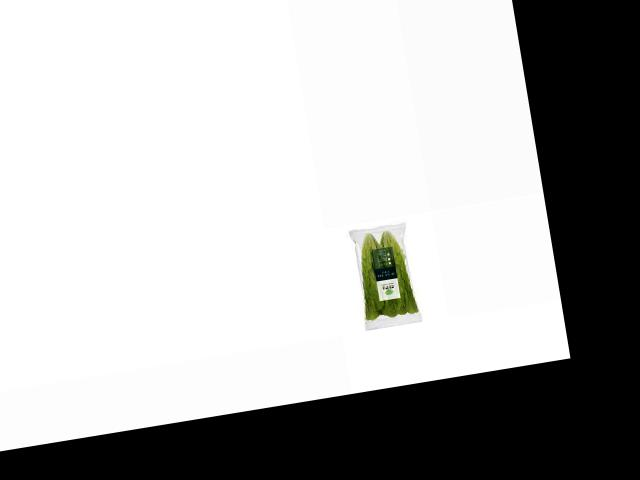lettuce: (345, 226, 419, 325)
